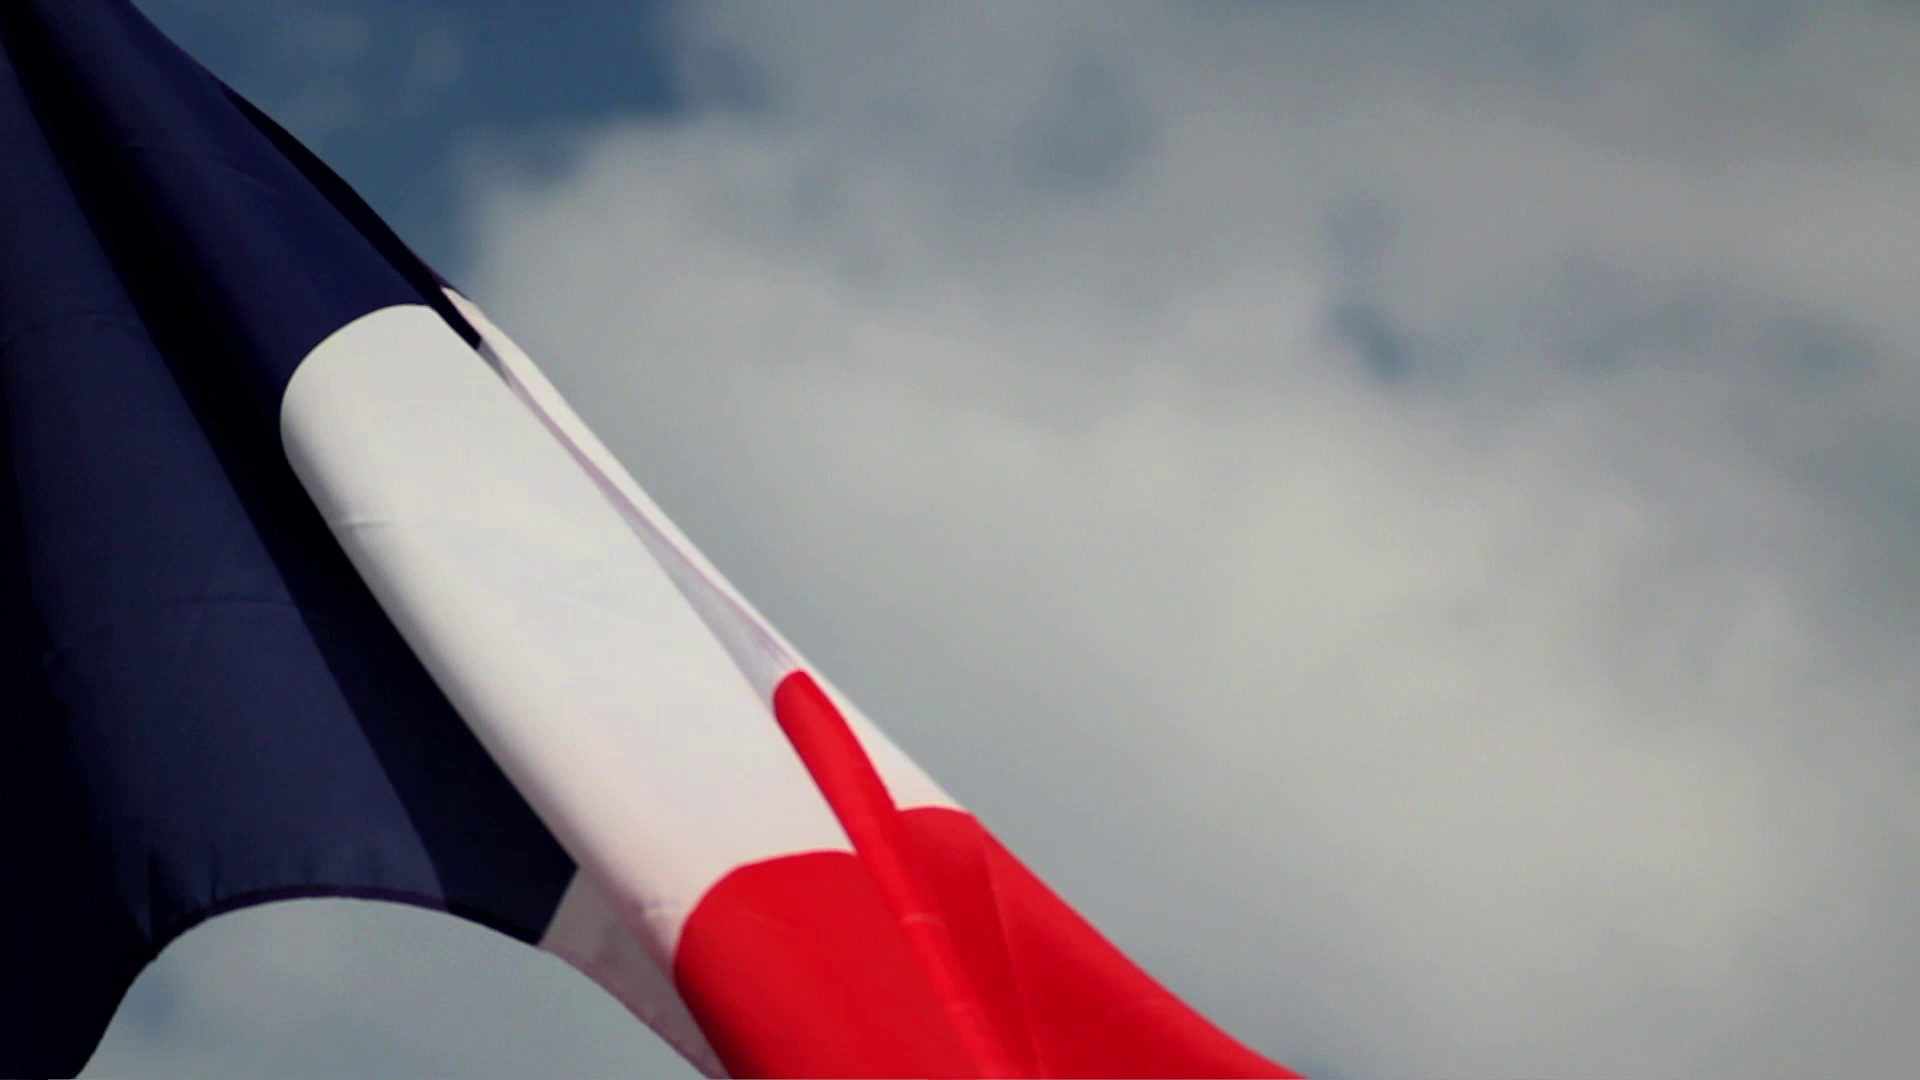French Flag: (7, 4, 1295, 1080)
